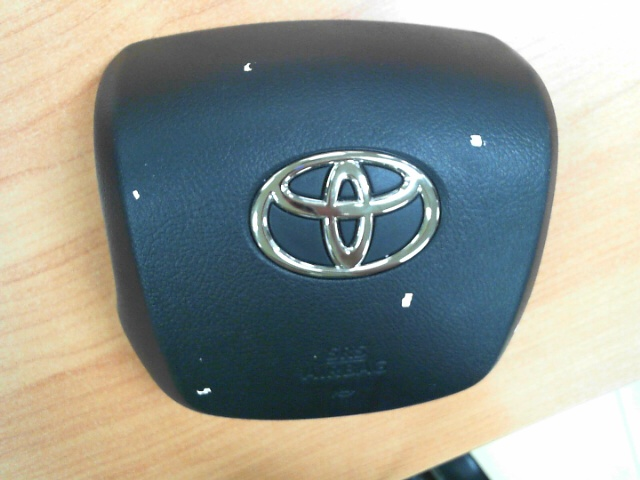Airbag: (468, 134, 488, 149), (401, 292, 414, 308), (196, 387, 212, 396), (131, 190, 141, 201), (243, 63, 252, 71)
